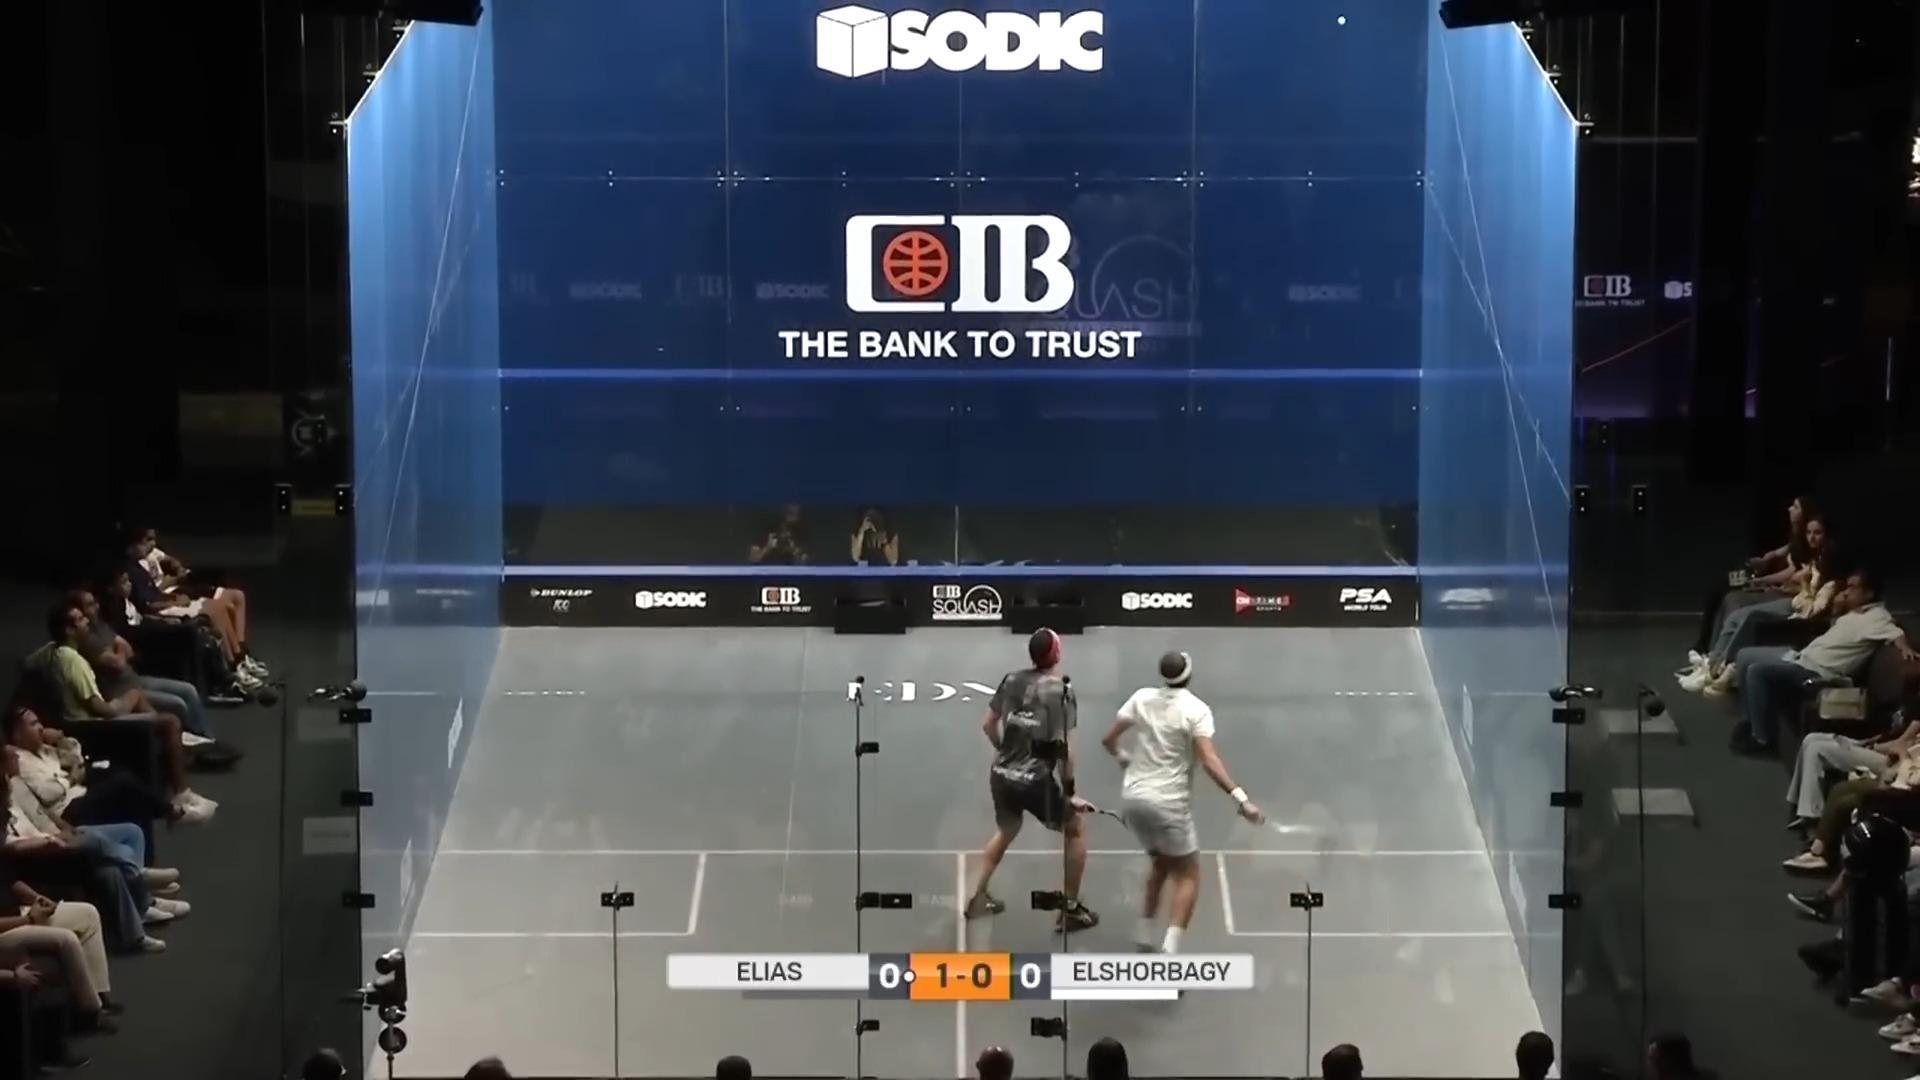Squash-Ball: (1327, 9, 1353, 33)
